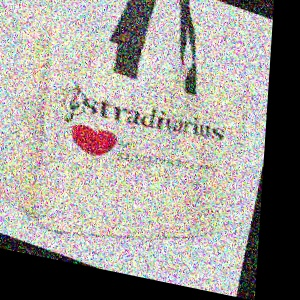stradivarius: (6, 46, 268, 216)
